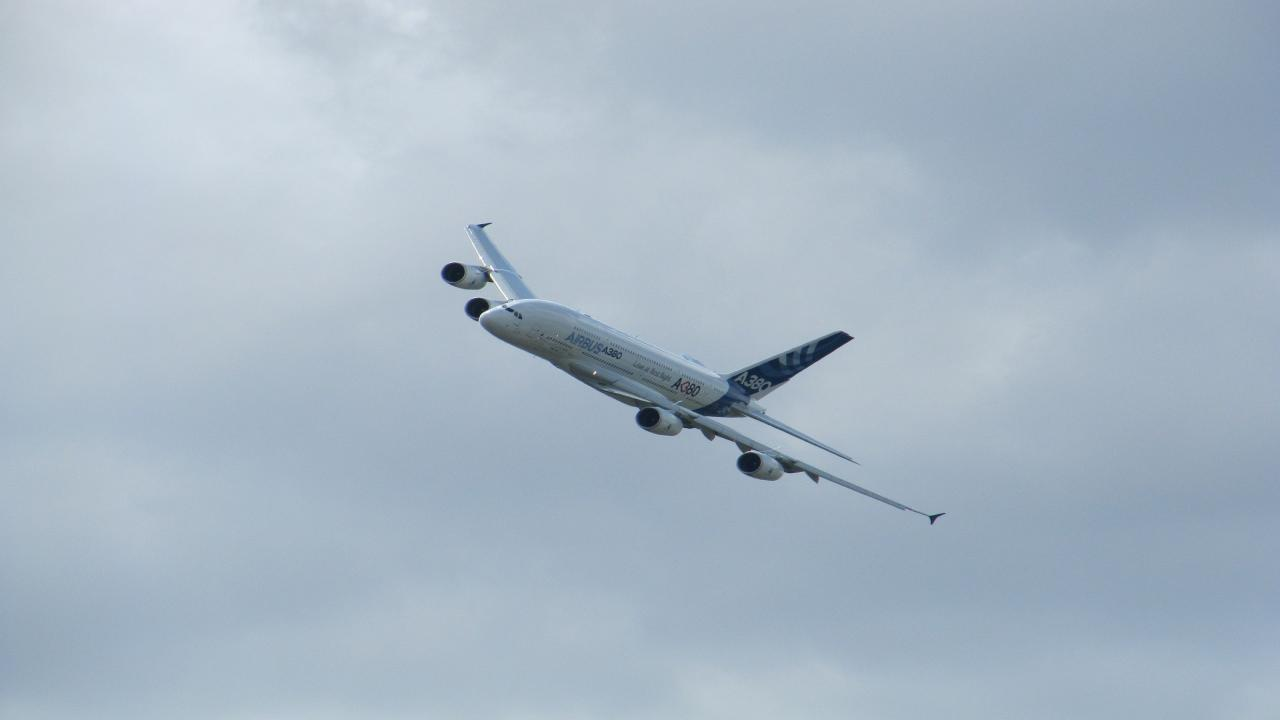Airplane: (421, 211, 965, 534)
